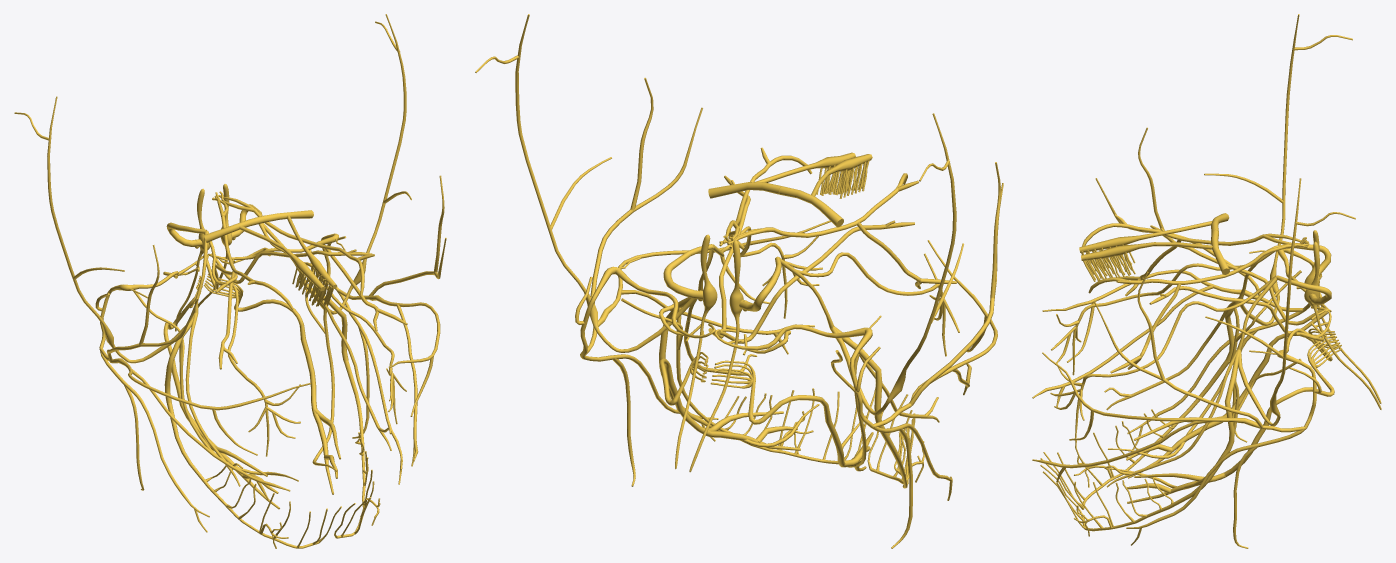
The model's file is nervous_peripheral.head.glb.
3 views of the same model, side by side, from view 1: azimuth 30°, elevation 25°; view 2: azimuth 150°, elevation 25°; view 3: azimuth 270°, elevation 25° (orthographic). The views are drawn at different scales.
Visible parts, largest first — view 1: right_facial_nerve_vii, left_facial_nerve_vii, left_hypoglossal_nerve_xii, right_inferior_alveolar_nerve, right_meningeal_branch_of_maxillary_nerve, right_olfactory_nerve_i, left_oculomotor_nerve_iii, left_meningeal_branch_of_maxillary_nerve, right_hypoglossal_nerve_xii, left_inferior_alveolar_nerve, right_maxillary_nerve, right_oculomotor_nerve_iii (+8 smaller); view 2: left_facial_nerve_vii, right_facial_nerve_vii, left_meningeal_branch_of_maxillary_nerve, left_hypoglossal_nerve_xii, right_meningeal_branch_of_maxillary_nerve, right_hypoglossal_nerve_xii, right_olfactory_nerve_i, left_olfactory_nerve_i, right_oculomotor_nerve_iii, left_inferior_alveolar_nerve, right_inferior_alveolar_nerve, right_maxillary_nerve (+10 smaller); view 3: left_facial_nerve_vii, right_facial_nerve_vii, left_olfactory_nerve_i, left_hypoglossal_nerve_xii, left_meningeal_branch_of_maxillary_nerve, right_meningeal_branch_of_maxillary_nerve, left_inferior_alveolar_nerve, right_hypoglossal_nerve_xii, right_inferior_alveolar_nerve, left_oculomotor_nerve_iii, right_oculomotor_nerve_iii, left_maxillary_nerve (+12 smaller).
Part boxes in pixels (box(x1,y1,x2,y2)): right_facial_nerve_vii: box(95, 245, 310, 532); left_facial_nerve_vii: box(208, 175, 446, 484); left_hypoglossal_nerve_xii: box(203, 273, 340, 494); right_inferior_alveolar_nerve: box(167, 402, 341, 548); right_meningeal_branch_of_maxillary_nerve: box(14, 96, 193, 363); right_olfactory_nerve_i: box(204, 216, 325, 306); left_oculomotor_nerve_iii: box(218, 191, 407, 331); left_meningeal_branch_of_maxillary_nerve: box(307, 14, 411, 314); right_hypoglossal_nerve_xii: box(163, 275, 279, 509); left_inferior_alveolar_nerve: box(334, 360, 376, 538); right_maxillary_nerve: box(206, 231, 300, 456); right_oculomotor_nerve_iii: box(212, 192, 293, 369); left_facial_nerve_vii: box(575, 77, 830, 486); right_facial_nerve_vii: box(714, 162, 1003, 548); left_meningeal_branch_of_maxillary_nerve: box(475, 14, 696, 352); left_hypoglossal_nerve_xii: box(659, 352, 800, 450); right_meningeal_branch_of_maxillary_nerve: box(830, 113, 963, 415); right_hypoglossal_nerve_xii: box(710, 360, 873, 471); right_olfactory_nerve_i: box(779, 154, 872, 227); left_olfactory_nerve_i: box(708, 152, 856, 198); right_oculomotor_nerve_iii: box(727, 173, 956, 288); left_inferior_alveolar_nerve: box(661, 376, 875, 464); right_inferior_alveolar_nerve: box(867, 393, 921, 488); right_maxillary_nerve: box(777, 252, 959, 356); left_facial_nerve_vii: box(1032, 271, 1331, 548); right_facial_nerve_vii: box(1032, 127, 1331, 449); left_olfactory_nerve_i: box(1081, 230, 1229, 281); left_hypoglossal_nerve_xii: box(1127, 335, 1341, 503); left_meningeal_branch_of_maxillary_nerve: box(1205, 178, 1355, 426); right_meningeal_branch_of_maxillary_nerve: box(1204, 14, 1352, 325); left_inferior_alveolar_nerve: box(1040, 449, 1230, 531); right_hypoglossal_nerve_xii: box(1126, 328, 1341, 478); right_inferior_alveolar_nerve: box(1040, 359, 1229, 509); left_oculomotor_nerve_iii: box(1088, 239, 1309, 373); right_oculomotor_nerve_iii: box(1082, 214, 1309, 296); left_maxillary_nerve: box(1050, 275, 1276, 440).
Bounding box in the file's own units: 0.1545 × 0.1669 × 0.1257.
